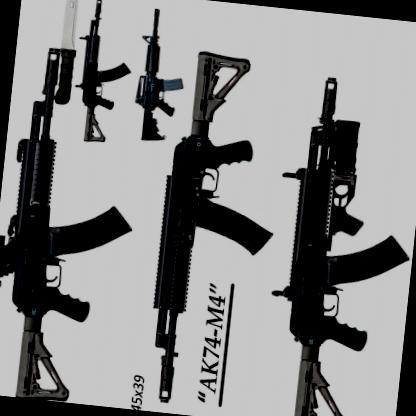rifle: (134, 42, 303, 416), (0, 38, 139, 406), (271, 71, 416, 416), (64, 0, 146, 149), (124, 3, 203, 148)
